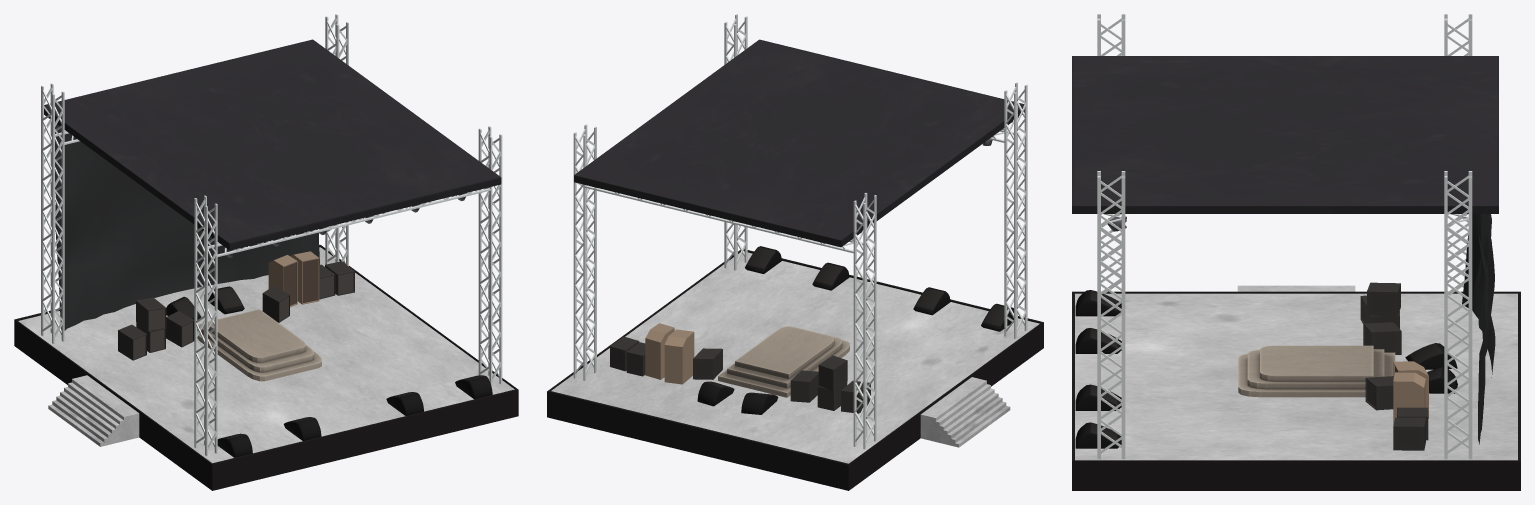
Rendered from stageresized4.glb.
3 renders of one model, left to right at view 1: azimuth 30°, elevation 25°; view 2: azimuth 150°, elevation 25°; view 3: azimuth 270°, elevation 25°, orthographic. The views are drawn at different scales.
Parts seen in each view (by area): view 1: concert-stage.main.final__0_4; view 2: concert-stage.main.final__0_4; view 3: concert-stage.main.final__0_4.
Part boxes in pixels (<box>): concert-stage.main.final__0_4: <box>14,14,518,490</box>; concert-stage.main.final__0_4: <box>547,14,1043,490</box>; concert-stage.main.final__0_4: <box>1072,14,1520,490</box>.
Bounding box in the file's own units: 393 × 298 × 390.
Materials: 1 (1 with a texture image).
